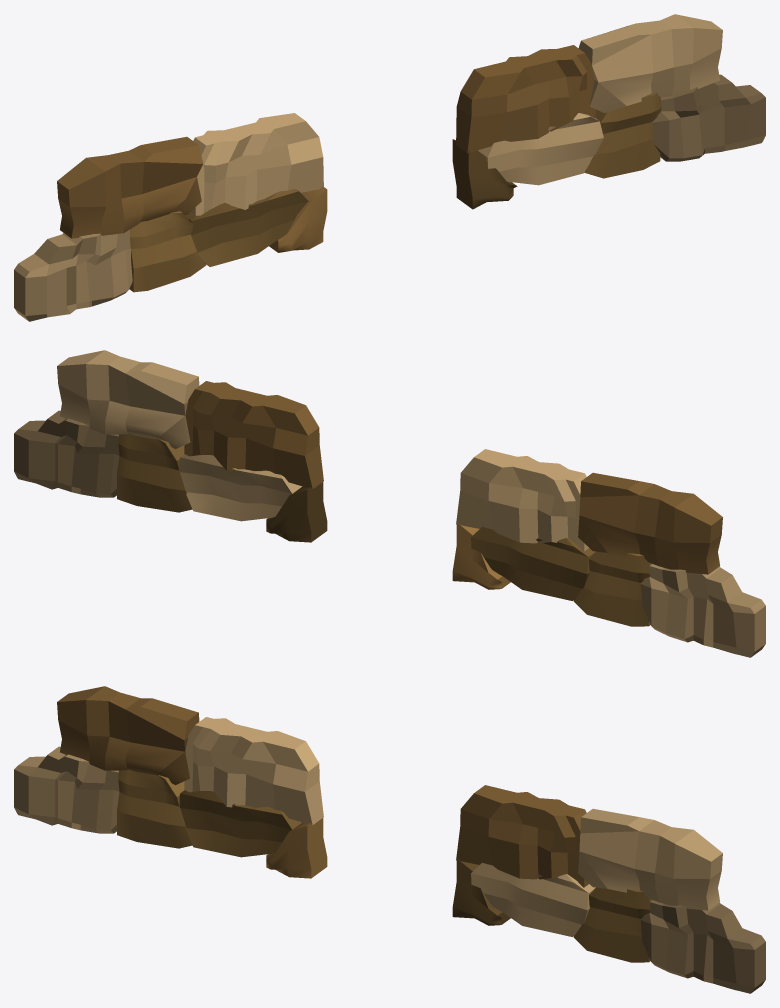
File: TT_Rock_wall.fbx
3 renders of one model, top to bottom at view 1: azimuth 30°, elevation 25°; view 2: azimuth 150°, elevation 25°; view 3: azimuth 330°, elevation 25°, orthographic.
Parts seen in each view (by area): view 1: Rock_Wall; view 2: Rock_Wall; view 3: Rock_Wall.
Part boxes in pixels (x1,y1,x2,y2): Rock_Wall: (14,14,765,321); Rock_Wall: (14,350,765,657); Rock_Wall: (14,686,765,993).
Size of the model in its own units: 578 by 103 by 27.19.
